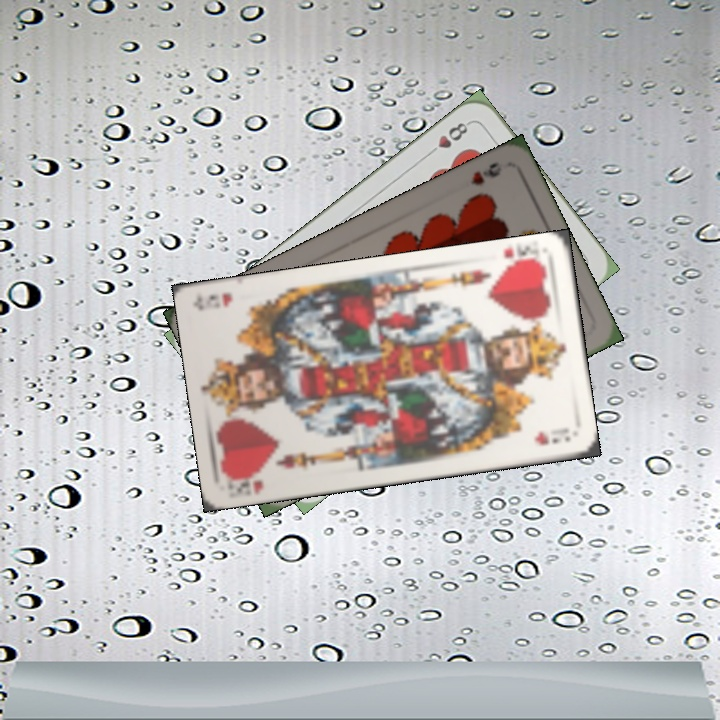H8: (423, 117, 473, 159)
H9: (467, 158, 504, 188)
HK: (496, 244, 547, 273), (224, 468, 265, 496)
